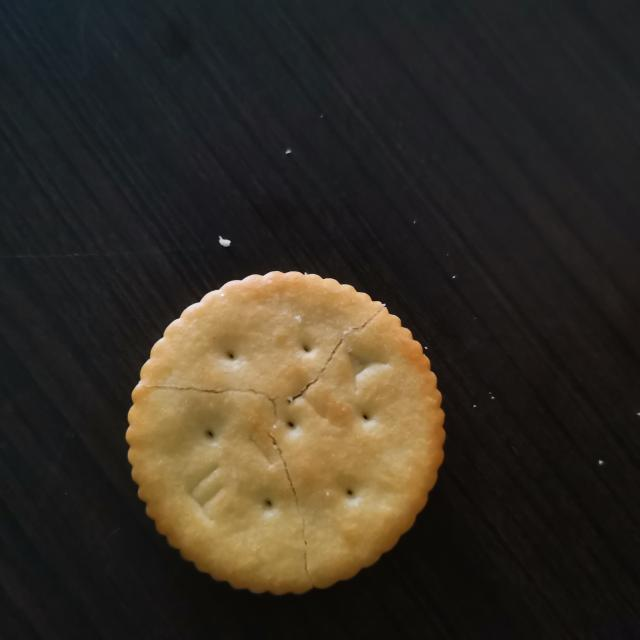Fracture: (134, 299, 407, 593)
